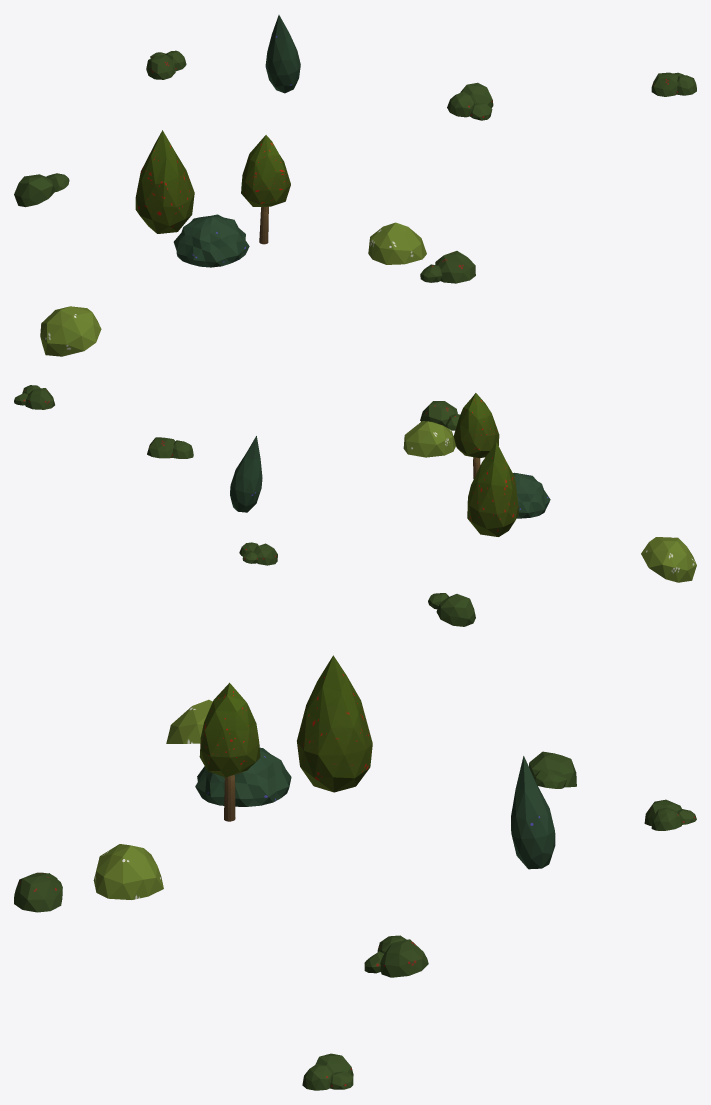
Rendered from Bushes16.gltf.
3 renders of one model, top to bottom at view 1: azimuth 30°, elevation 25°; view 2: azimuth 150°, elevation 25°; view 3: azimuth 270°, elevation 25°, orthographic. The views are drawn at different scales.
Parts seen in each view (by area): view 1: Hollytree3 - copy.023, JuniperBush1 - copy.020, Hollytree1 - copy.016, ElderberryBush1 - copy.006, ElderberryBush1 - copy.016, JuniperBush2 - copy.008, StrawberryBush2 - copy.016, StrawberryBush1 - copy.026, StrawberryBush3 - copy.002, StrawberryBush3 - copy.001, StrawberryBush3 - copy.010; view 2: Hollytree3 - copy.023, Hollytree1 - copy.016, ElderberryBush1 - copy.006, JuniperBush2 - copy.008, ElderberryBush1 - copy.016, JuniperBush1 - copy.020, StrawberryBush1 - copy.026, StrawberryBush3 - copy.002, StrawberryBush2 - copy.016, StrawberryBush3 - copy.001, StrawberryBush3 - copy.010; view 3: Hollytree3 - copy.023, Hollytree1 - copy.016, JuniperBush2 - copy.008, JuniperBush1 - copy.020, ElderberryBush1 - copy.016, StrawberryBush3 - copy.002, StrawberryBush2 - copy.016, StrawberryBush3 - copy.001, StrawberryBush1 - copy.026, ElderberryBush1 - copy.006, StrawberryBush3 - copy.010.
Boxes of the visible parts, box(x1,y1,x2,y2) form: Hollytree3 - copy.023: box(135, 130, 194, 233); JuniperBush1 - copy.020: box(173, 214, 249, 267); Hollytree1 - copy.016: box(241, 135, 290, 244); ElderberryBush1 - copy.006: box(40, 306, 101, 356); ElderberryBush1 - copy.016: box(368, 222, 426, 264); JuniperBush2 - copy.008: box(265, 15, 300, 93); StrawberryBush2 - copy.016: box(420, 251, 475, 283); StrawberryBush1 - copy.026: box(14, 173, 69, 207); StrawberryBush3 - copy.002: box(447, 82, 493, 120); StrawberryBush3 - copy.001: box(651, 72, 696, 96); StrawberryBush3 - copy.010: box(146, 50, 186, 79); Hollytree3 - copy.023: box(467, 442, 518, 536); Hollytree1 - copy.016: box(453, 393, 499, 478); ElderberryBush1 - copy.006: box(641, 537, 696, 582); JuniperBush2 - copy.008: box(230, 436, 262, 512); ElderberryBush1 - copy.016: box(403, 421, 455, 457); JuniperBush1 - copy.020: box(513, 472, 550, 518); StrawberryBush1 - copy.026: box(428, 593, 475, 626); StrawberryBush3 - copy.002: box(147, 437, 193, 458); StrawberryBush2 - copy.016: box(420, 401, 459, 430); StrawberryBush3 - copy.001: box(14, 385, 54, 409); StrawberryBush3 - copy.010: box(239, 542, 277, 565); Hollytree3 - copy.023: box(297, 655, 372, 792); Hollytree1 - copy.016: box(199, 682, 260, 821); JuniperBush2 - copy.008: box(511, 756, 555, 869); JuniperBush1 - copy.020: box(195, 747, 291, 806); ElderberryBush1 - copy.016: box(93, 844, 163, 899); StrawberryBush3 - copy.002: box(364, 935, 428, 977); StrawberryBush2 - copy.016: box(14, 872, 62, 912); StrawberryBush3 - copy.001: box(302, 1053, 353, 1090); StrawberryBush1 - copy.026: box(529, 751, 576, 788); ElderberryBush1 - copy.006: box(166, 699, 212, 743); StrawberryBush3 - copy.010: box(644, 799, 696, 830).
Size of the model in its own units: 27.93 by 6.27 by 18.47.
8 materials, 8 textured.
